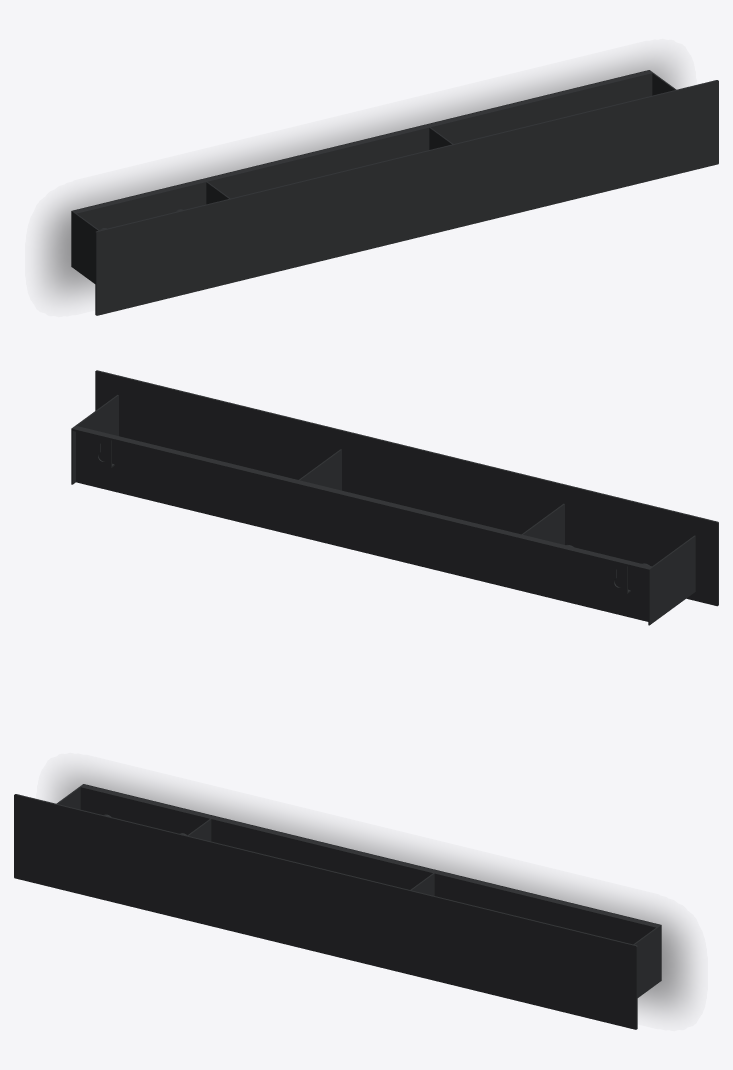
The model's file is skyline-patron.7620a3389b.ar.glb.
3 views of the same model, one above another, from view 1: azimuth 30°, elevation 25°; view 2: azimuth 150°, elevation 25°; view 3: azimuth 330°, elevation 25° (orthographic).
Parts seen in each view (by area): view 1: NAUO1, object 2; view 2: NAUO1; view 3: NAUO1, object 2.
Boxes of the visible parts, bbox=[...] form: NAUO1: bbox=[71, 70, 718, 315]; object 2: bbox=[42, 59, 678, 296]; NAUO1: bbox=[71, 370, 718, 625]; NAUO1: bbox=[14, 784, 661, 1029]; object 2: bbox=[54, 773, 690, 1010].
Bounding box in the file's own units: 0.78 × 0.17 × 0.092.
Materials: 2 (1 with a texture image).
